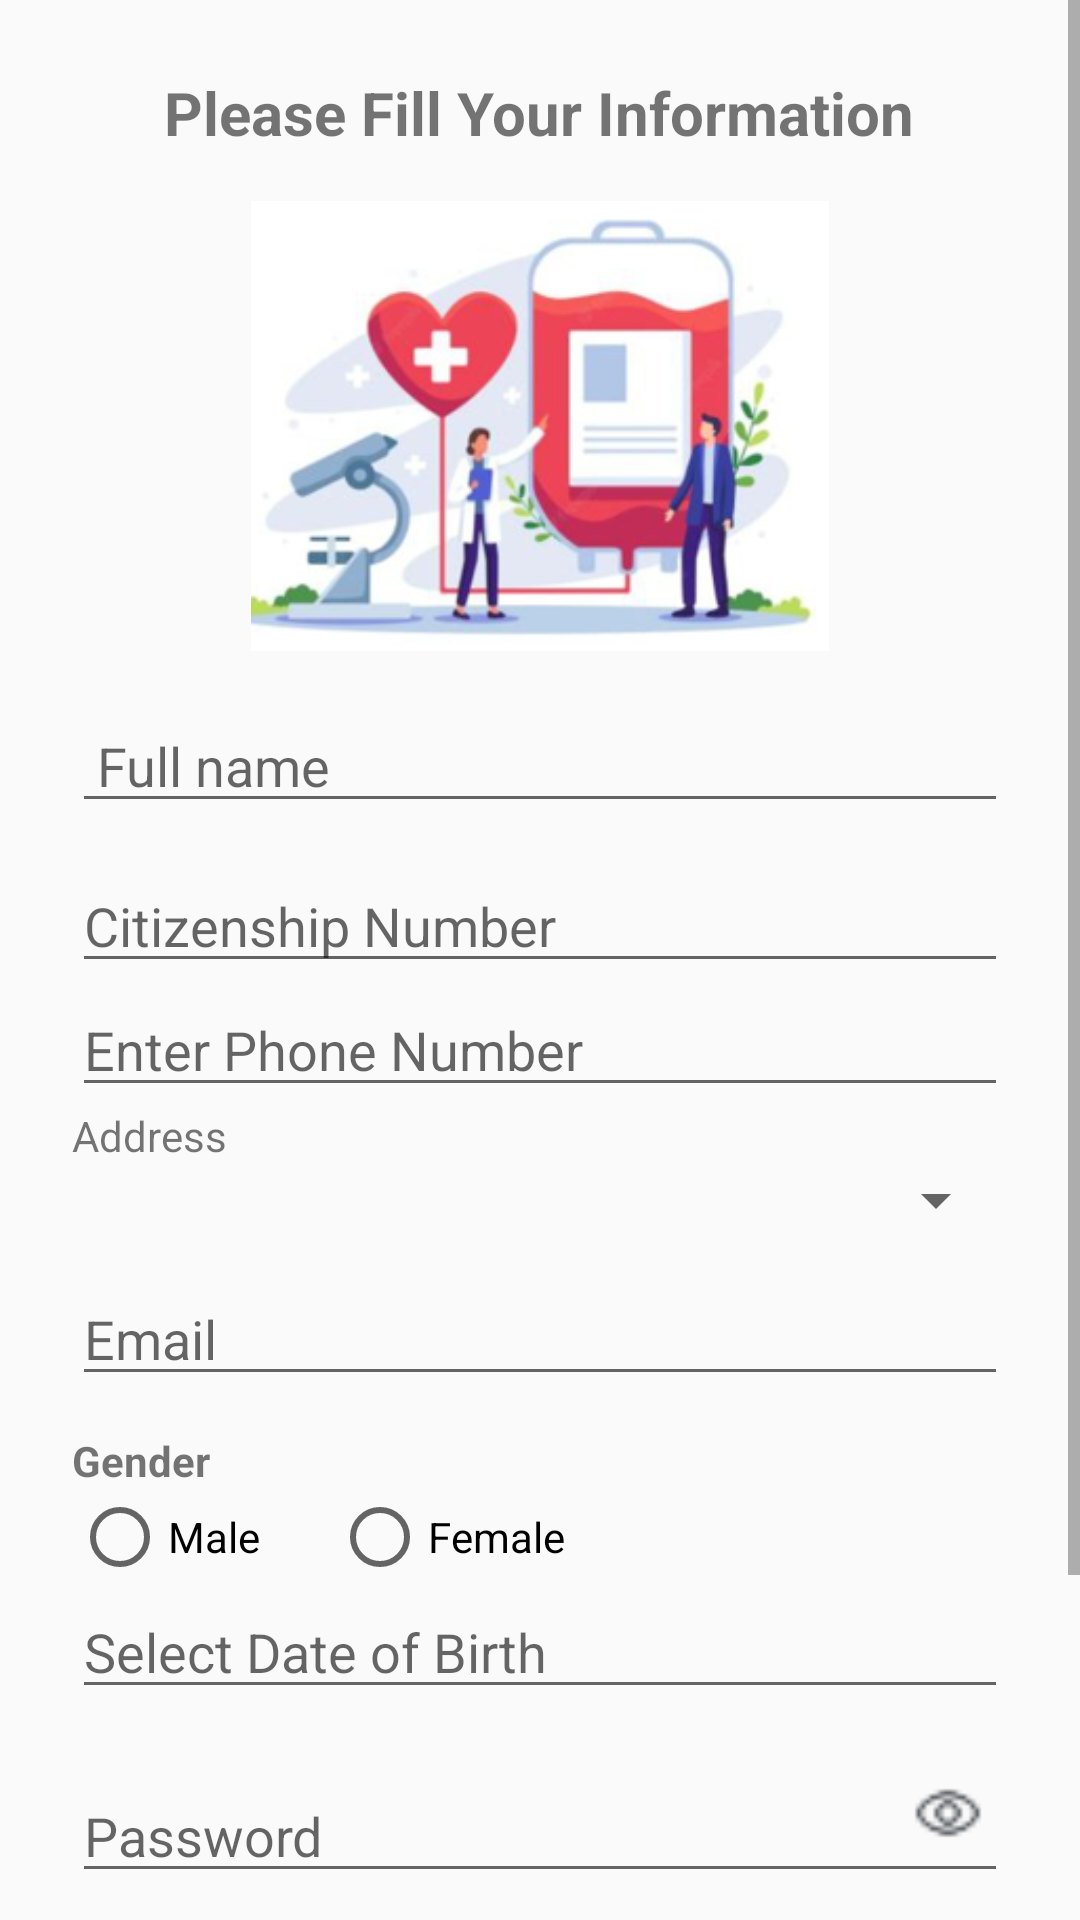

Screen size 1080px×1920px. Icon name, then its center in pixels as point (x, y):
eye: point (948, 1813)
